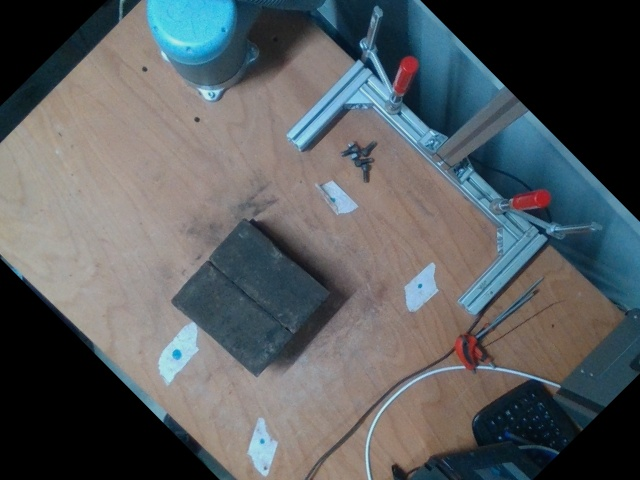brick: (208, 217, 331, 336), (172, 262, 289, 376)
